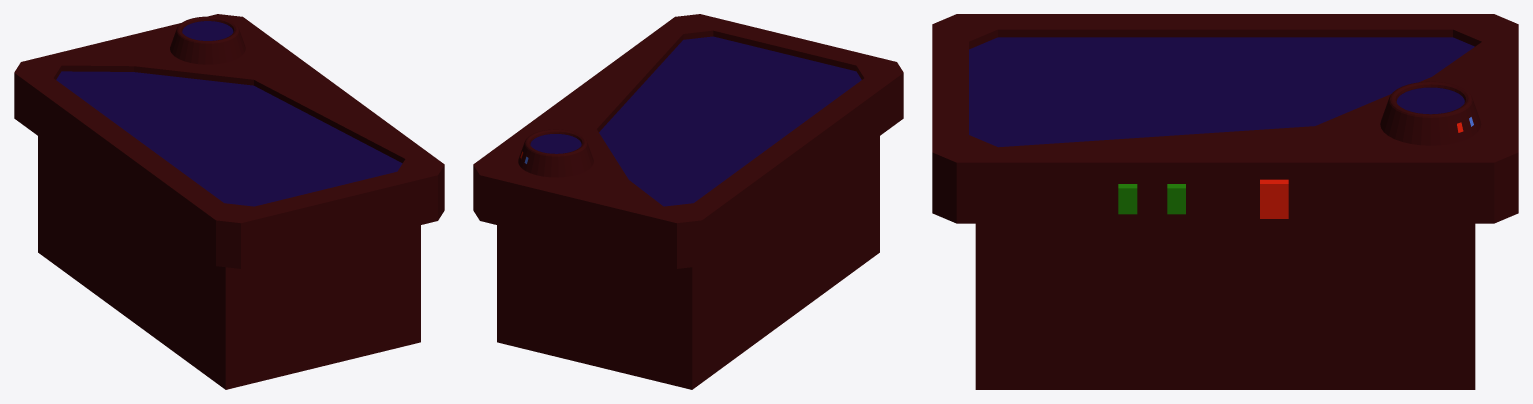
The model's file is Level Select Table.fbx.
The picture shows the model from 3 angles, left to right: view 1: azimuth 30°, elevation 25°; view 2: azimuth 150°, elevation 25°; view 3: azimuth 270°, elevation 25°; orthographic projection. The views are drawn at different scales.
Visible parts, largest first — view 1: Level Select Table; view 2: Level Select Table; view 3: Level Select Table.
Part boxes in pixels (bbox=[...]): Level Select Table: bbox=[14, 14, 444, 389]; Level Select Table: bbox=[473, 14, 903, 389]; Level Select Table: bbox=[932, 14, 1518, 389].
Bounding box in the file's own units: 724 × 583 × 1173.
